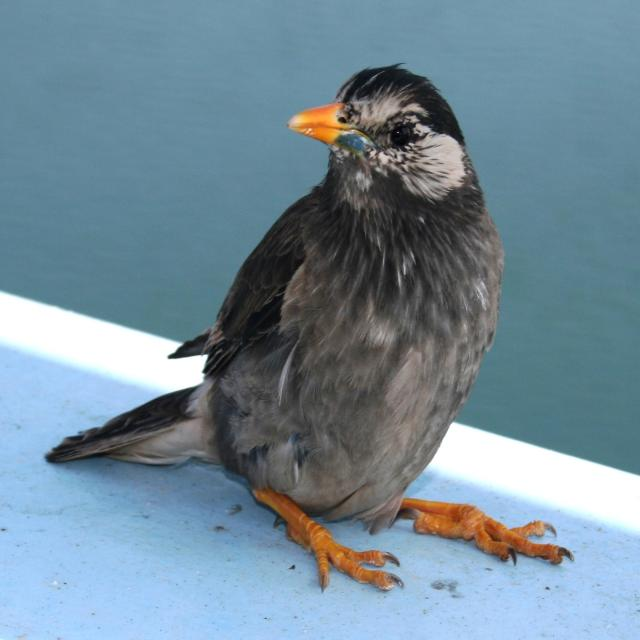bird: (36, 52, 577, 598)
